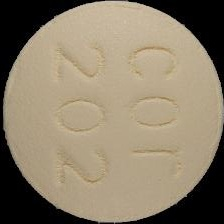54868-5953: (0, 0, 224, 224)
